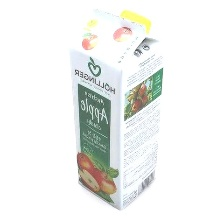carton: (65, 5, 169, 213)
